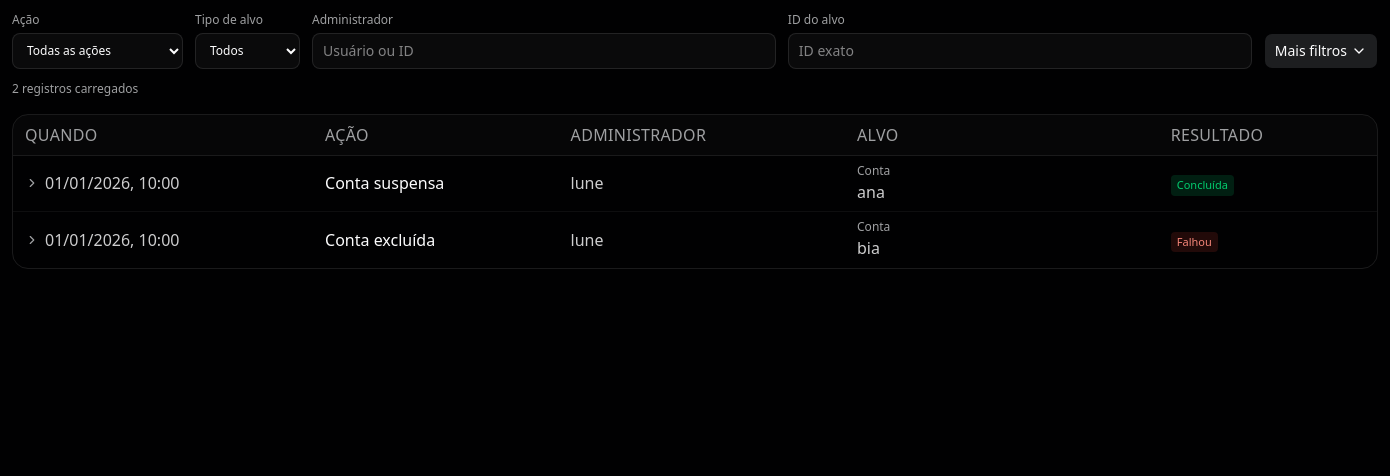
Test case: AuditPage › expanding shows the reason, the technical code, the target id and the request id
Click the button named "detalhes de". click: (102, 183)
box: [25,171,180,195]
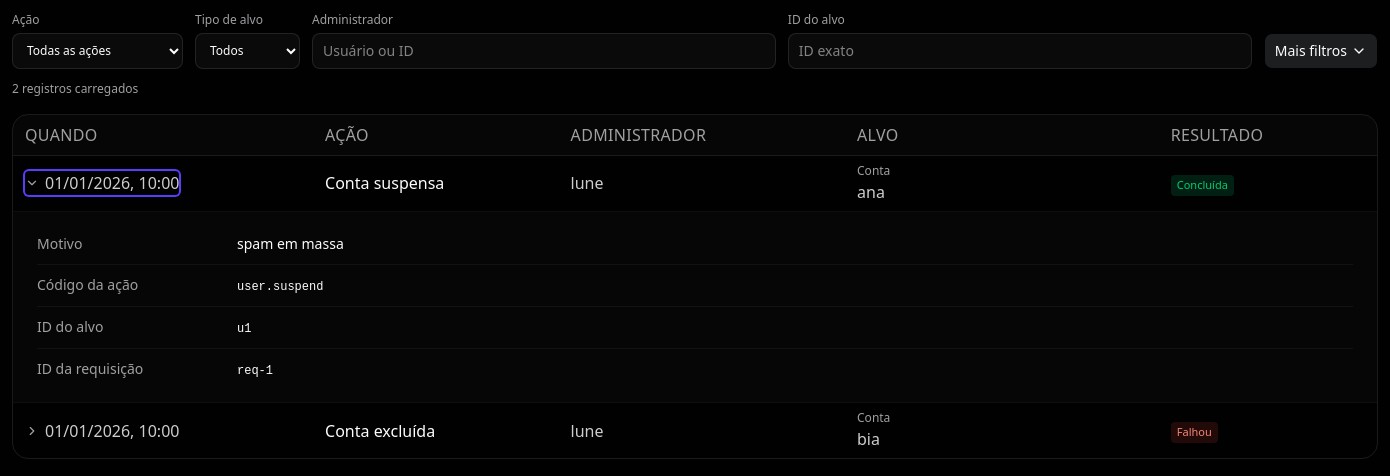
Now the text "spam em massa" is shown, box [237,234,344,253]
Now the text "req-1" is shown, box [237,364,273,378]
Now the text "user.suspend" is shown, box [237,280,323,294]
